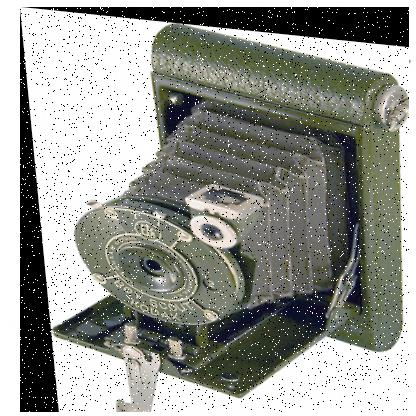Camera: (21, 8, 411, 414)
